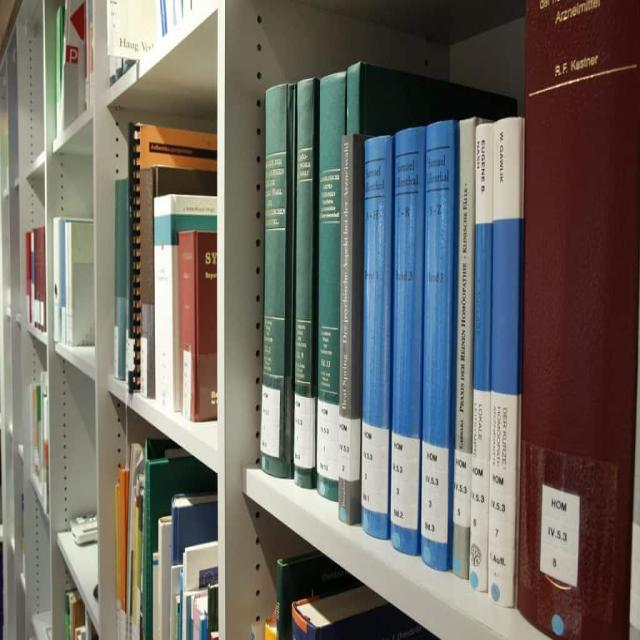book: (540, 6, 618, 634), (364, 155, 386, 530), (262, 96, 284, 468), (494, 139, 510, 602), (427, 139, 442, 561), (321, 95, 336, 492), (400, 153, 414, 541), (300, 97, 314, 484), (458, 139, 466, 579), (157, 210, 174, 408), (477, 138, 484, 584), (180, 244, 198, 413), (70, 224, 91, 344)
